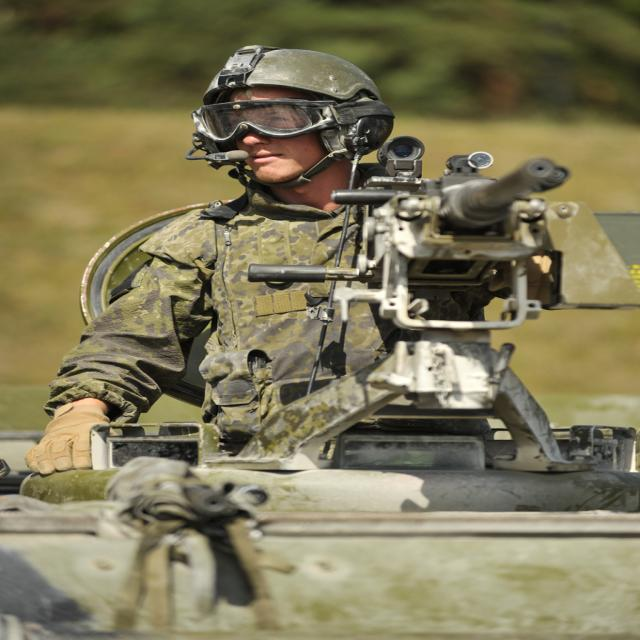Weapon: (348, 167, 619, 396)
